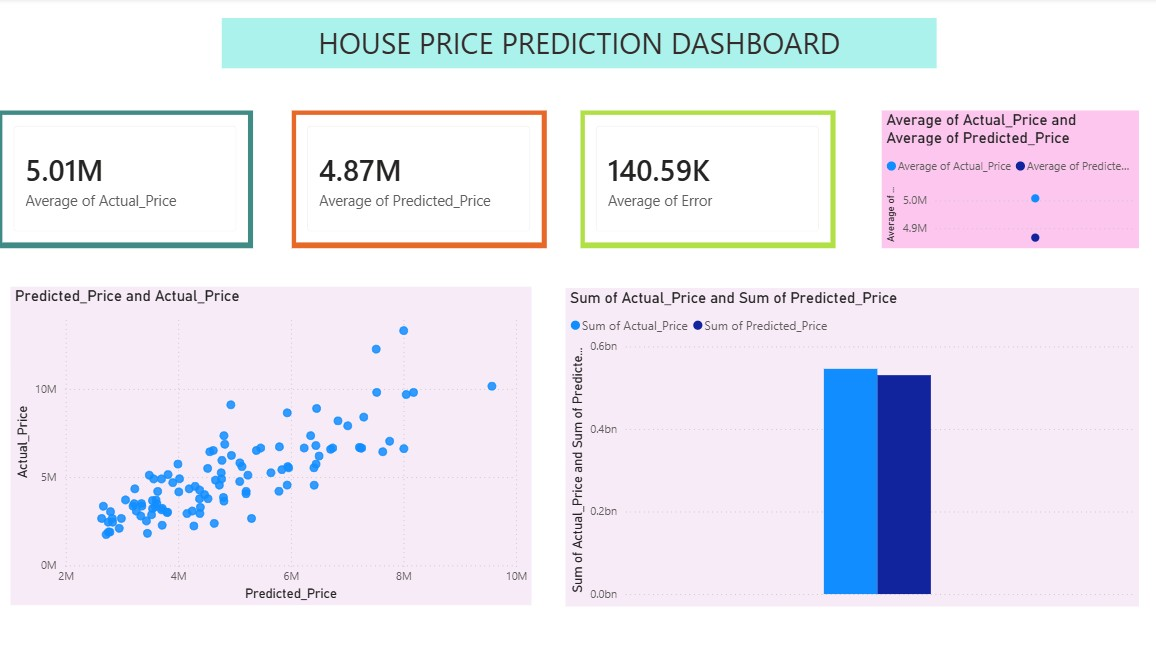

Layout of this report page (visuals, bound fields, positions):
{"tool":"powerbi","page":{"name":"Page 1","canvas":[1280,720],"ordinal":0},"visuals":[{"type":"cardVisual","fields":{"Data":["Avg(prediction_results.Actual_Price)"]},"box":[0,123.5,279.9,150.9],"z":0},{"type":"cardVisual","fields":{"Data":["Avg(prediction_results.Predicted_Price)"]},"box":[322.5,123.5,279.9,150.9],"z":1000},{"type":"cardVisual","fields":{"Data":["Avg(prediction_results.Error)"]},"box":[639.5,123.5,279.9,150.9],"z":2000},{"type":"scatterChart","fields":{"X":["prediction_results.Predicted_Price"],"Y":["prediction_results.Actual_Price"]},"box":[13.7,317,572.2,349.9],"z":3000},{"type":"clusteredColumnChart","fields":{"Y":["Sum(prediction_results.Actual_Price)","Sum(prediction_results.Predicted_Price)"]},"box":[623,318.4,629.8,349.9],"z":4000},{"type":"textbox","box":[245.6,22,784.9,54.9],"z":5000},{"type":"lineChart","fields":{"Y":["Avg(prediction_results.Actual_Price)","Avg(prediction_results.Predicted_Price)"]},"box":[970.2,123.5,282.7,150.9],"z":6000}]}

Visuals, with their boxes in screenshot pixels (x1, y1, x2, y2), scaled from the page's 1280x720 canvas onto the 1156x650 screenshot:
cardVisual - Avg(prediction_results.Actual_Price): [0, 111, 253, 248]
cardVisual - Avg(prediction_results.Predicted_Price): [291, 111, 544, 248]
cardVisual - Avg(prediction_results.Error): [578, 111, 830, 248]
scatterChart - prediction_results.Predicted_Price x prediction_results.Actual_Price: [12, 286, 529, 602]
clusteredColumnChart - Sum(prediction_results.Actual_Price) x Sum(prediction_results.Predicted_Price): [563, 287, 1131, 603]
textbox: [222, 20, 931, 69]
lineChart - Avg(prediction_results.Actual_Price) x Avg(prediction_results.Predicted_Price): [876, 111, 1132, 248]
